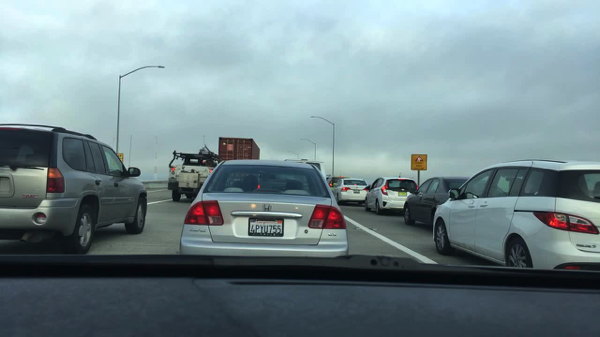car: (1, 124, 148, 255), (433, 157, 599, 271), (180, 158, 350, 257), (404, 176, 467, 226), (364, 176, 418, 214), (282, 160, 325, 187), (332, 178, 370, 205), (328, 176, 345, 190)
traffic sign: (410, 154, 426, 172), (108, 153, 122, 169)
truck: (168, 146, 225, 201), (216, 136, 261, 162)
